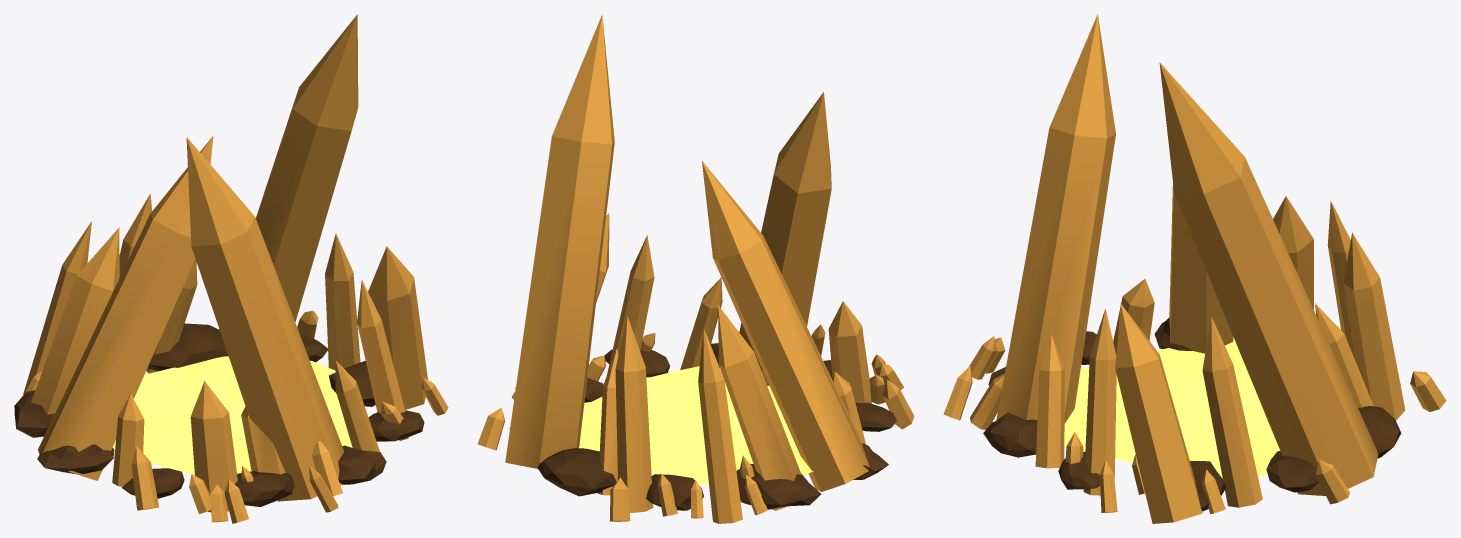
File: core_heart.glb
3 views of the same model, side by side, from view 1: azimuth 30°, elevation 25°; view 2: azimuth 150°, elevation 25°; view 3: azimuth 270°, elevation 25° (orthographic). The views are drawn at different scales.
Parts seen in each view (by area): view 1: CoreHeart; view 2: CoreHeart; view 3: CoreHeart.
Boxes of the visible parts, left/top/right/bottom form: CoreHeart: left=14, top=14, right=448, bottom=523; CoreHeart: left=477, top=14, right=914, bottom=523; CoreHeart: left=943, top=14, right=1446, bottom=523.
Size of the model in its own units: 2.26 by 2.34 by 2.41.
